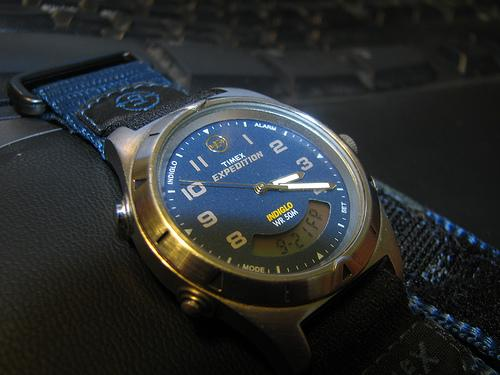watch: (122, 83, 403, 321)
